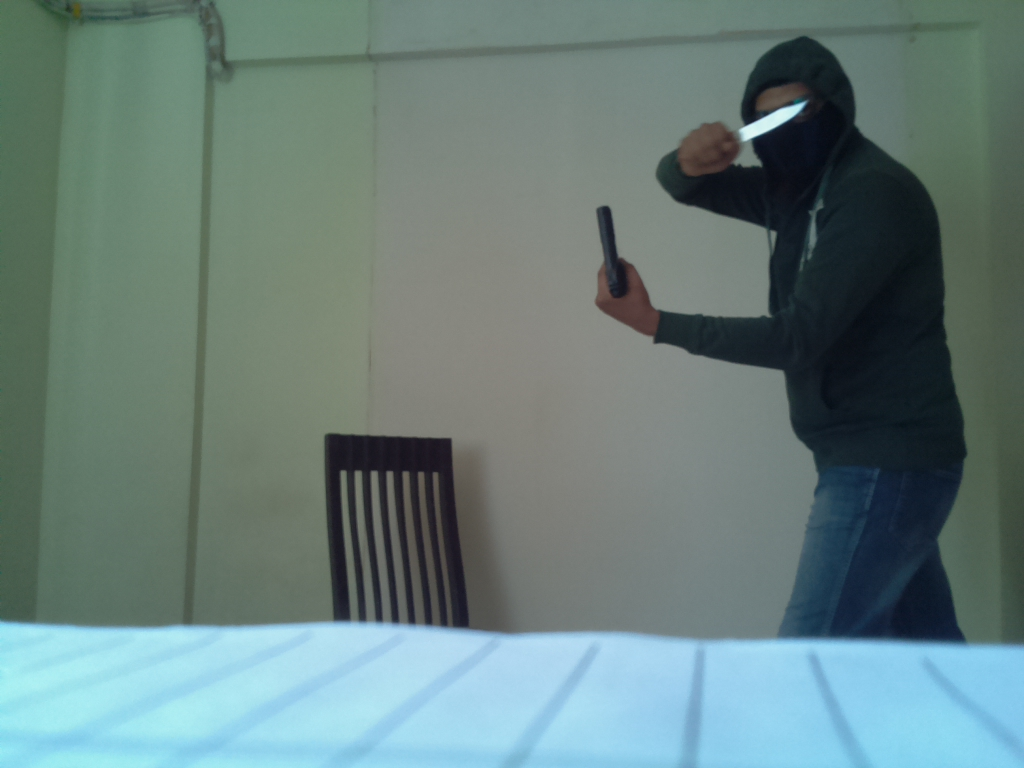gun: (587, 200, 643, 295)
knife: (720, 99, 817, 150)
